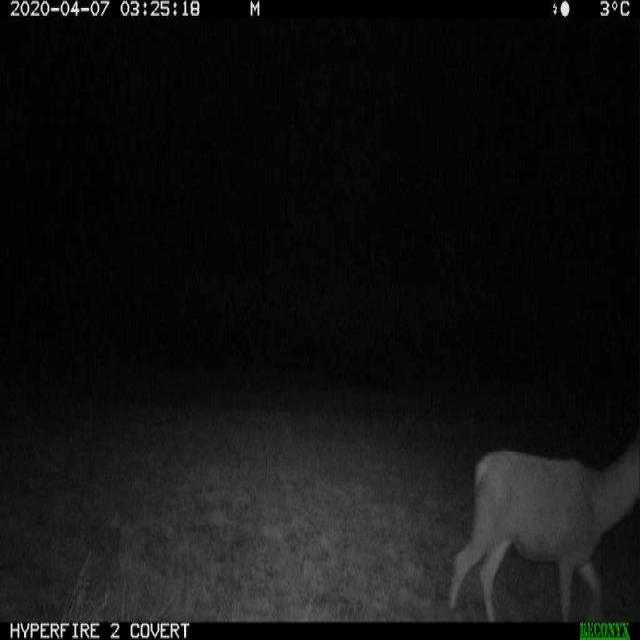deer: (442, 424, 638, 624)
